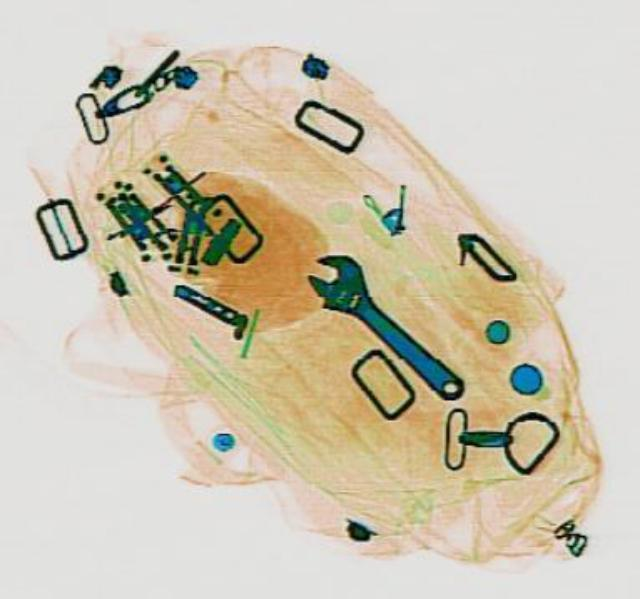Wrench: (288, 241, 480, 412)
